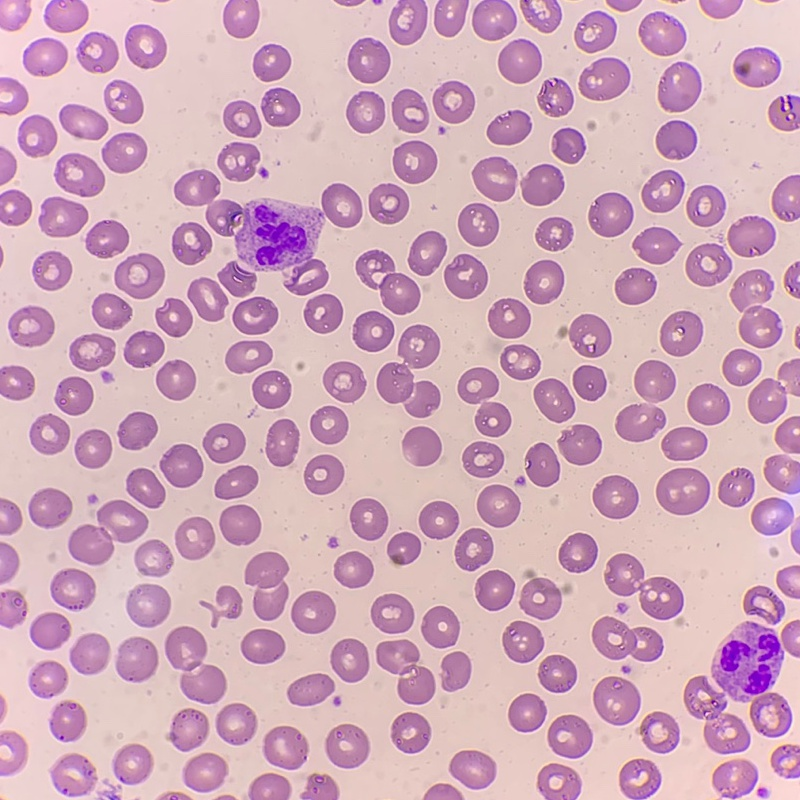RBC: (175, 170, 327, 294), (684, 620, 799, 753), (377, 325, 439, 417), (605, 554, 683, 619), (68, 500, 147, 564), (165, 627, 226, 703), (356, 251, 419, 313), (376, 640, 434, 704), (592, 617, 662, 661), (245, 552, 288, 620), (657, 468, 709, 514), (593, 677, 640, 725), (115, 254, 164, 298), (55, 153, 104, 196), (658, 62, 700, 111), (579, 58, 629, 99), (639, 12, 685, 55), (444, 254, 487, 298), (325, 724, 369, 767), (593, 476, 638, 518), (39, 197, 87, 236), (498, 40, 541, 83), (473, 157, 516, 200), (589, 193, 632, 236), (264, 726, 307, 769), (291, 591, 335, 633), (548, 715, 592, 757), (686, 244, 731, 285), (116, 637, 157, 682), (728, 216, 774, 256), (393, 141, 436, 183), (160, 444, 202, 487), (127, 584, 170, 626), (348, 38, 389, 82), (661, 311, 702, 355), (51, 569, 95, 610), (51, 754, 95, 795), (9, 306, 54, 346), (477, 485, 519, 527), (125, 25, 166, 68), (734, 47, 779, 86), (712, 759, 757, 798), (450, 750, 496, 788), (617, 405, 665, 441), (642, 170, 683, 212), (569, 314, 610, 356), (520, 577, 561, 619), (102, 133, 146, 172), (433, 81, 474, 122), (522, 164, 563, 205), (739, 306, 780, 347), (59, 104, 107, 139), (458, 203, 498, 245), (323, 362, 365, 402), (534, 379, 574, 421), (104, 80, 143, 123), (322, 184, 361, 227), (183, 753, 227, 791), (77, 32, 118, 72), (688, 384, 729, 424), (503, 621, 543, 662), (619, 759, 660, 799), (473, 0, 515, 39), (203, 423, 245, 462), (559, 425, 601, 464), (175, 517, 214, 559), (371, 594, 413, 633), (525, 260, 563, 303), (389, 0, 426, 44), (23, 38, 67, 75), (233, 297, 277, 334), (575, 11, 615, 51), (353, 311, 393, 351), (216, 704, 256, 744), (172, 223, 211, 264), (489, 299, 530, 338), (635, 360, 674, 401), (169, 709, 208, 750), (188, 278, 226, 320), (29, 489, 71, 527), (748, 379, 785, 422), (634, 227, 678, 263), (409, 231, 445, 275), (70, 334, 114, 370), (220, 505, 260, 544), (70, 634, 109, 674), (113, 744, 152, 784), (218, 142, 259, 180), (86, 220, 128, 257), (455, 528, 492, 570), (331, 639, 368, 681), (369, 184, 408, 223), (30, 415, 69, 454), (304, 455, 343, 494), (475, 570, 513, 610), (640, 712, 678, 752), (347, 91, 384, 132), (19, 115, 56, 156), (687, 185, 724, 226), (731, 270, 772, 307), (422, 606, 459, 647), (392, 90, 428, 132), (156, 361, 195, 399), (402, 427, 441, 465), (126, 468, 164, 507), (559, 533, 597, 572), (392, 713, 430, 752), (656, 121, 696, 158), (350, 499, 387, 539), (266, 419, 298, 465), (538, 764, 580, 799), (241, 629, 284, 663), (662, 427, 706, 460), (33, 252, 71, 290), (304, 294, 342, 332), (419, 501, 458, 538), (615, 268, 655, 304), (744, 586, 784, 622), (30, 613, 70, 649), (487, 111, 530, 144), (262, 88, 299, 126), (124, 331, 163, 367), (50, 701, 86, 740), (458, 368, 498, 403), (463, 442, 503, 477), (226, 341, 271, 372), (288, 674, 333, 705), (215, 465, 257, 498), (527, 443, 559, 486), (253, 44, 290, 81), (253, 371, 290, 408), (55, 377, 92, 414), (310, 406, 347, 443), (119, 412, 156, 449), (539, 655, 576, 692), (75, 430, 111, 468), (29, 661, 67, 697), (45, 0, 87, 32), (223, 101, 260, 137), (723, 349, 760, 385), (135, 540, 172, 576), (509, 694, 545, 731), (334, 552, 372, 587), (501, 345, 540, 379), (223, 0, 258, 37), (156, 299, 191, 336), (92, 294, 130, 328), (719, 468, 753, 506), (520, 0, 560, 32), (538, 79, 572, 116), (434, 0, 468, 36), (765, 455, 799, 491), (772, 175, 799, 220), (475, 402, 510, 436), (536, 217, 572, 250), (219, 263, 255, 296), (0, 366, 34, 399), (0, 732, 26, 775), (573, 366, 605, 400), (0, 190, 31, 225), (442, 652, 470, 690), (387, 533, 420, 565), (552, 128, 583, 162), (249, 774, 290, 799), (0, 77, 27, 114), (769, 97, 799, 130), (752, 498, 779, 534), (0, 590, 26, 626), (771, 745, 799, 777), (0, 0, 29, 30), (776, 416, 799, 453), (307, 774, 338, 799), (217, 586, 241, 618), (700, 0, 741, 18), (0, 499, 21, 534), (779, 359, 799, 395), (0, 543, 18, 583), (777, 570, 799, 598), (424, 784, 462, 799), (0, 148, 16, 183), (785, 262, 799, 297), (608, 0, 638, 10), (162, 792, 186, 799), (792, 537, 799, 551), (340, 0, 358, 5), (790, 566, 799, 574), (103, 373, 111, 381), (0, 700, 4, 715), (795, 336, 799, 344)
